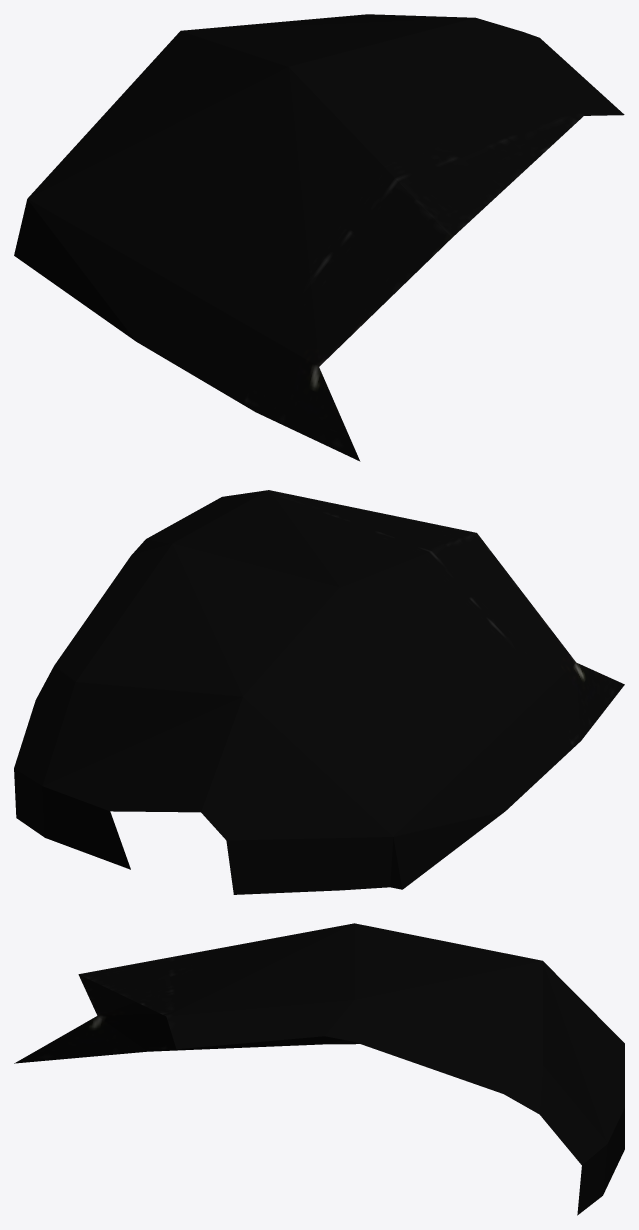
3 views of the same model, one above another, from view 1: azimuth 30°, elevation 25°; view 2: azimuth 150°, elevation 25°; view 3: azimuth 270°, elevation 25° (orthographic). The views are drawn at different scales.
Bounding box in the file's own units: 1.5 × 0.7913 × 2.24.
1 material, 1 textured.
